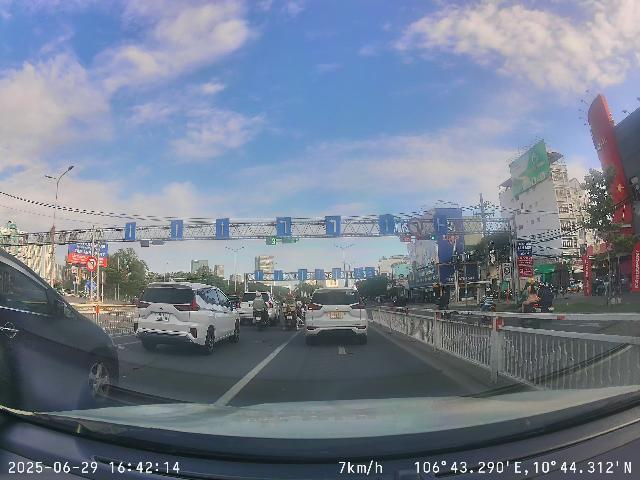123a-cam-re-trai: (407, 217, 424, 234)
